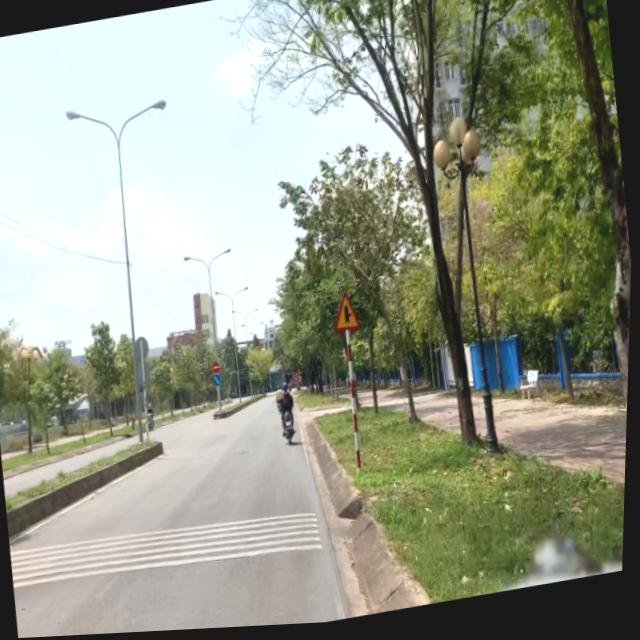Cam di nguoc chieu: (214, 363, 223, 377)
Giao nhau voi duong khong uu tien ben phai: (332, 293, 364, 338), (298, 370, 305, 378)
Toc do toi da cho phep: (299, 377, 305, 386)
Vong chuong ngai vat sang phai: (215, 375, 224, 389)
